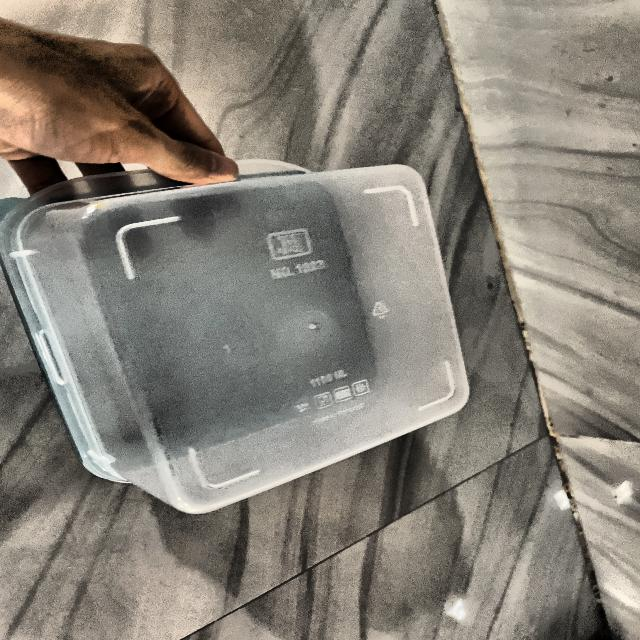plastic container: (26, 154, 488, 505)
